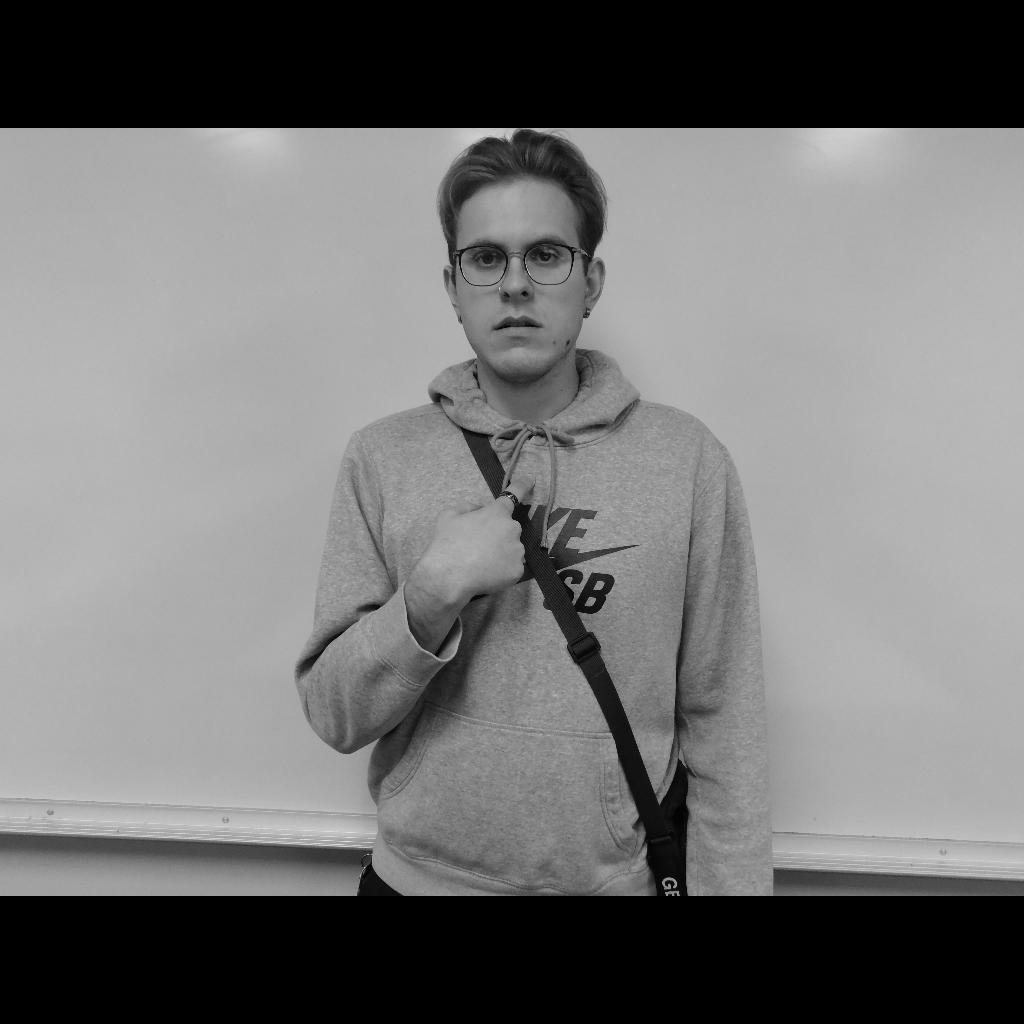I: (426, 474, 536, 594)
